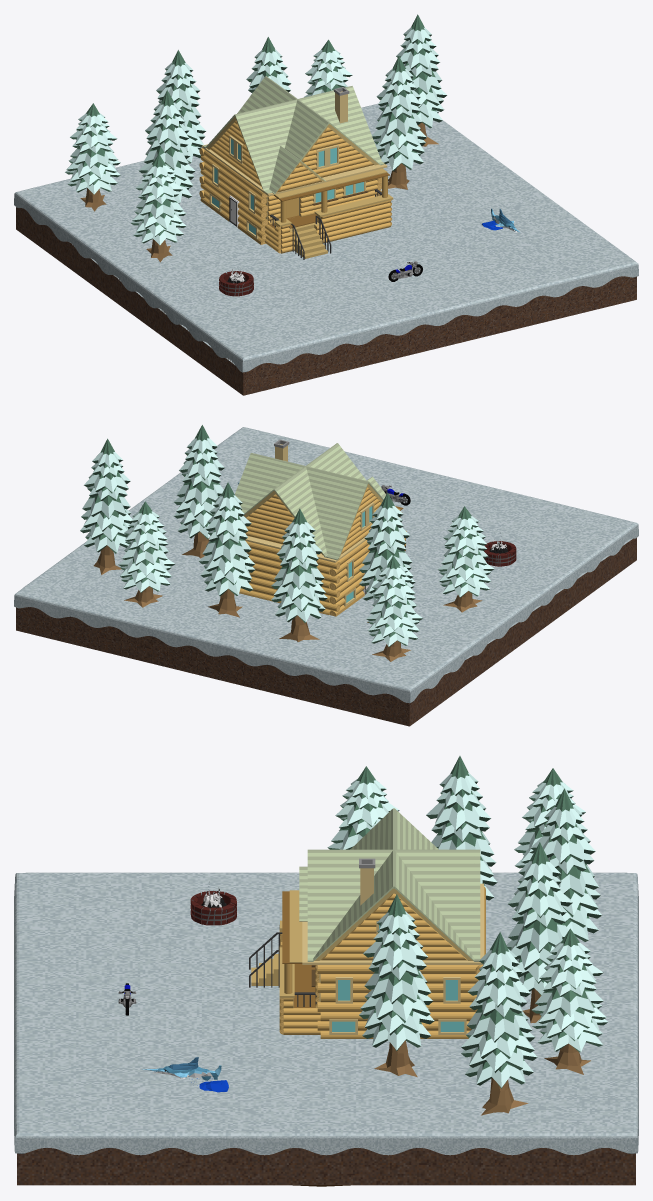
The picture shows the model from 3 angles, top to bottom: view 1: azimuth 30°, elevation 25°; view 2: azimuth 150°, elevation 25°; view 3: azimuth 270°, elevation 25°; orthographic projection. The views are drawn at different scales.
Parts seen in each view (by area): view 1: Cube.003, Cube.1516, OBJRANDOM_CAMPFIRE; view 2: Cube.003, Cube.1516, OBJRANDOM_CAMPFIRE; view 3: Cube.003, Cube.1516, OBJRANDOM_CAMPFIRE, ANIMAL_PEZ_ESPADA.
Boxes of the visible parts, <box> form: Cube.003: <box>14,14,638,395</box>; Cube.1516: <box>199,76,393,259</box>; OBJRANDOM_CAMPFIRE: <box>219,269,253,296</box>; Cube.003: <box>14,425,638,726</box>; Cube.1516: <box>234,439,406,616</box>; OBJRANDOM_CAMPFIRE: <box>484,540,516,566</box>; Cube.003: <box>14,756,638,1185</box>; Cube.1516: <box>249,808,485,1038</box>; OBJRANDOM_CAMPFIRE: <box>190,888,236,925</box>; ANIMAL_PEZ_ESPADA: <box>142,1057,228,1092</box>.
Size of the model in its own units: 4040 by 1758 by 4040.
37 materials, 4 textured.
